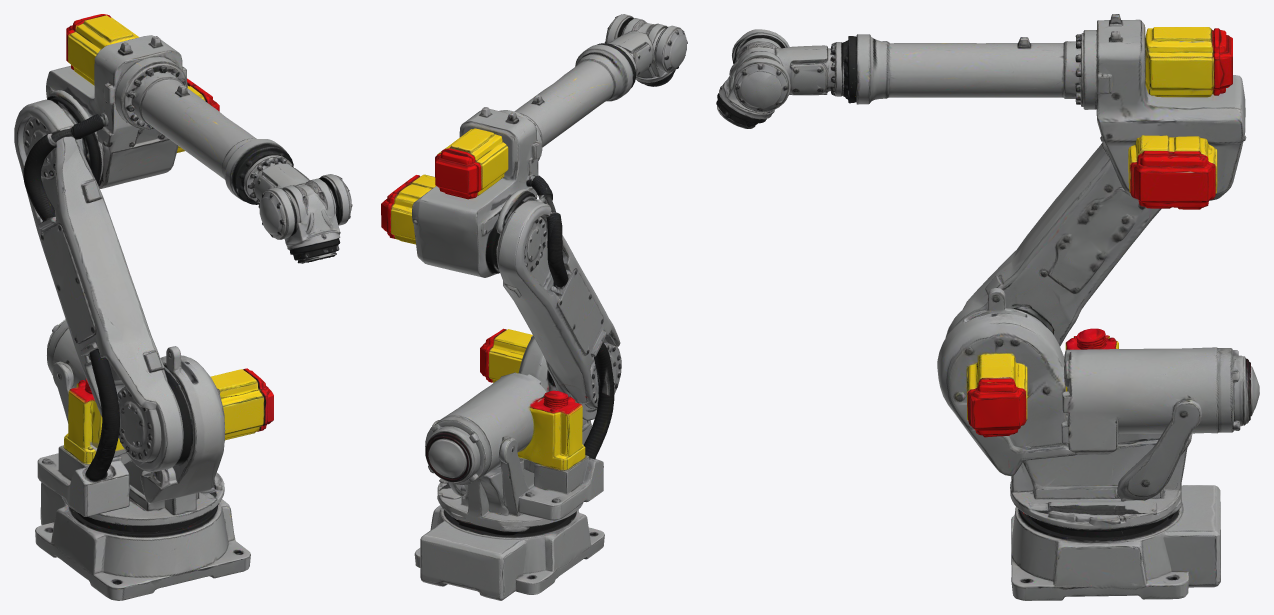
The model's file is robot-arm-complete.glb.
3 views of the same model, side by side, from view 1: azimuth 30°, elevation 25°; view 2: azimuth 150°, elevation 25°; view 3: azimuth 270°, elevation 25° (orthographic). The views are drawn at different scales.
Visible parts, largest first — view 1: fanuc-robot; view 2: fanuc-robot; view 3: fanuc-robot.
Boxes of the visible parts, x1=… form: fanuc-robot: x1=14, y1=14, x2=352, y2=600; fanuc-robot: x1=381, y1=14, x2=687, y2=600; fanuc-robot: x1=716, y1=14, x2=1259, y2=600.
Bounding box in the file's own units: 0.7258 × 1.92 × 1.74.
1 material, 1 textured.
